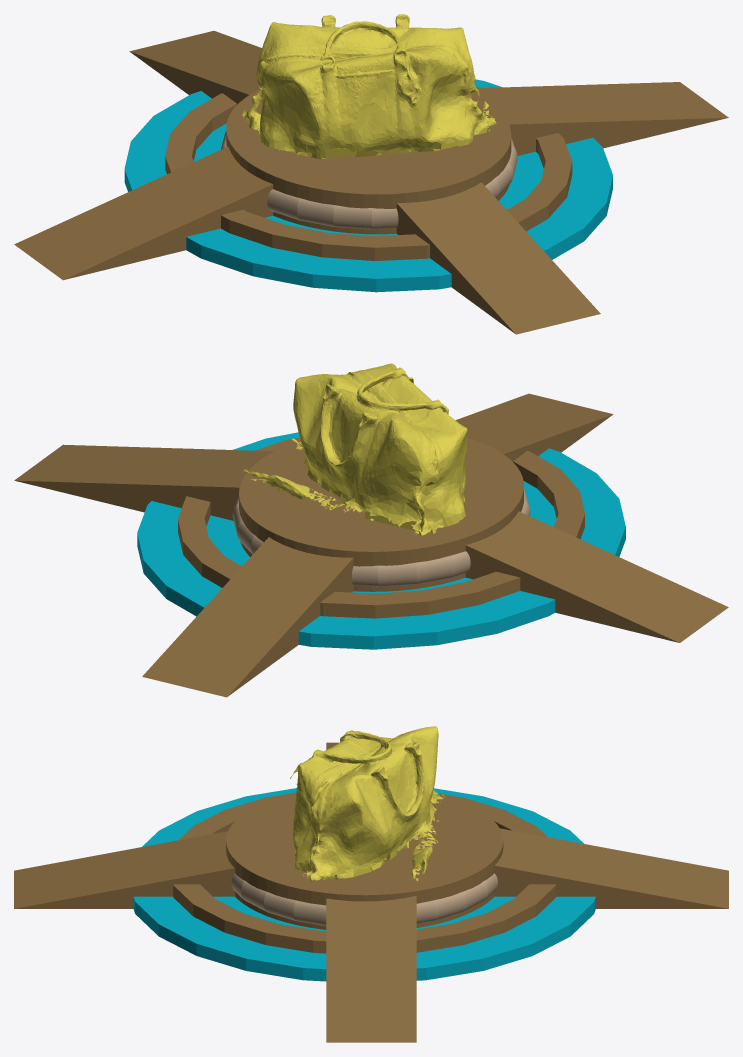
File: Smooth Jaagub.glb
3 views of the same model, one above another, from view 1: azimuth 30°, elevation 25°; view 2: azimuth 150°, elevation 25°; view 3: azimuth 270°, elevation 25° (orthographic). The views are drawn at different scales.
Parts seen in each view (by area): view 1: Mesh_Mesh_head_geo.001_lambert2SG.001; view 2: Mesh_Mesh_head_geo.001_lambert2SG.001; view 3: Mesh_Mesh_head_geo.001_lambert2SG.001.
Part boxes in pixels (box(x1,y1,x2,y2)): Mesh_Mesh_head_geo.001_lambert2SG.001: box(14, 14, 728, 334); Mesh_Mesh_head_geo.001_lambert2SG.001: box(14, 363, 728, 697); Mesh_Mesh_head_geo.001_lambert2SG.001: box(14, 726, 728, 1042).
Bounding box in the file's own units: 157 × 34.72 × 158.
